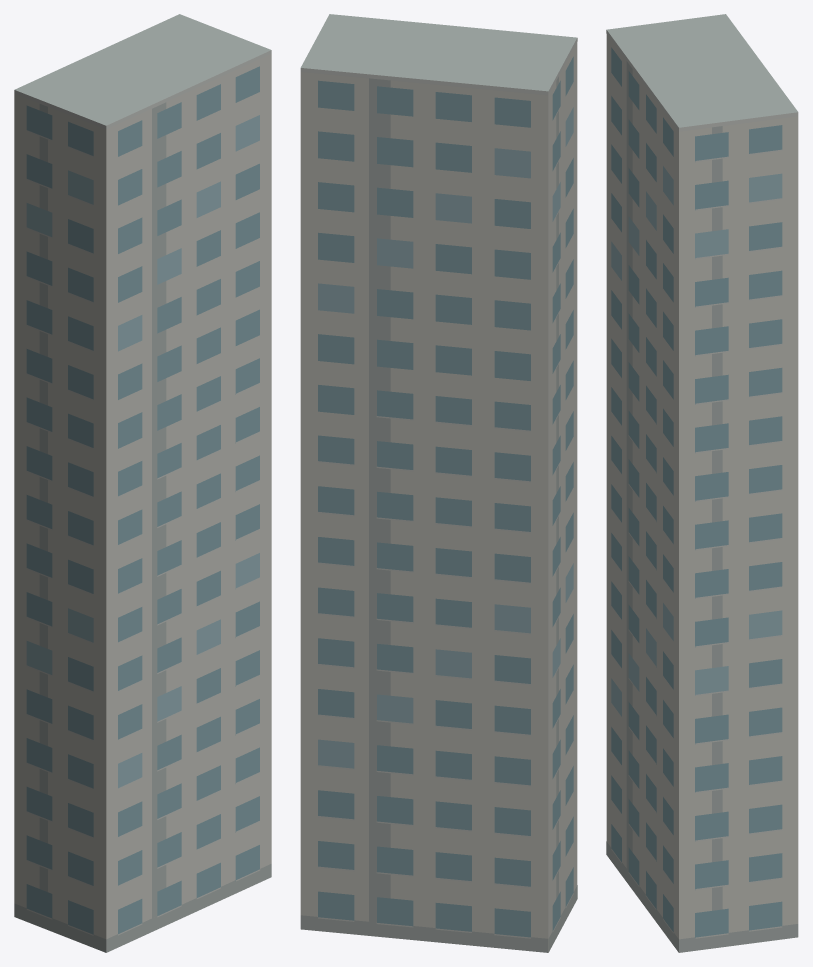
The model's file is survey-upis-32711790.glb.
3 views of the same model, side by side, from view 1: azimuth 30°, elevation 25°; view 2: azimuth 150°, elevation 25°; view 3: azimuth 270°, elevation 25° (orthographic). The views are drawn at different scales.
Parts seen in each view (by area): view 1: survey-upis-32711790.tmp; view 2: survey-upis-32711790.tmp; view 3: survey-upis-32711790.tmp.
Boxes of the visible parts, x1=… form: survey-upis-32711790.tmp: x1=14, y1=14, x2=271, y2=952; survey-upis-32711790.tmp: x1=300, y1=14, x2=577, y2=952; survey-upis-32711790.tmp: x1=606, y1=14, x2=798, y2=952.
Bounding box in the file's own units: 15.34 × 51.85 × 10.94.
